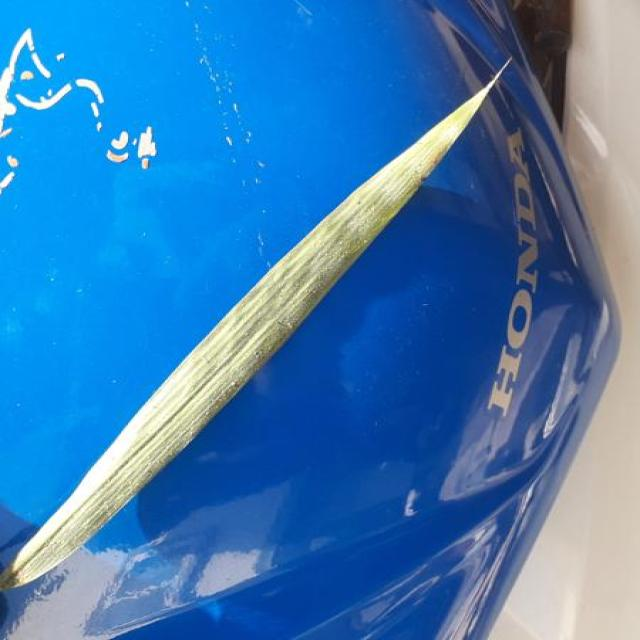Bamboo: (0, 58, 511, 589)
balloon_Vine: (0, 109, 472, 589)
